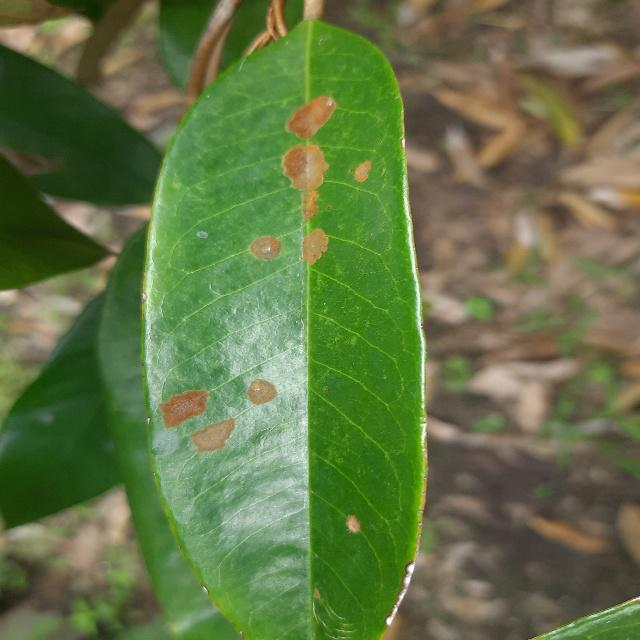Algal Leaf Spot: (133, 13, 436, 639)
